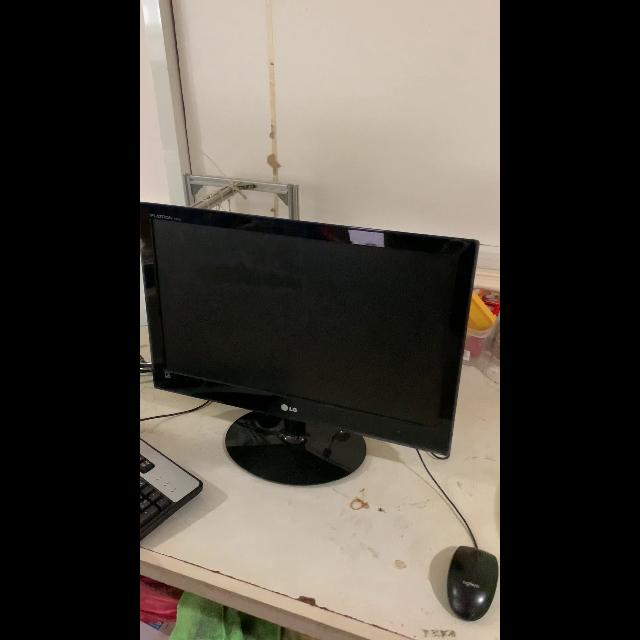Flat-Panel-Monitor: (140, 202, 480, 488)
